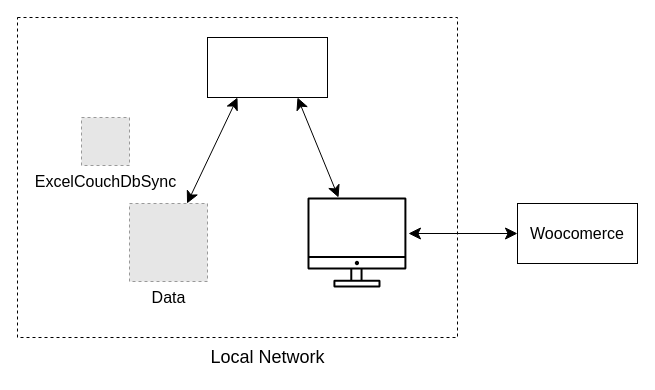
Some shapes in this 655 by 390 pixel diagram are drawn without their labels. Grey dashed boxes stand in for pictures. Each missing label, with the centre of its shape:
"CouchDB" goes at point 267,67.
"Frontend" goes at point 356,242.
